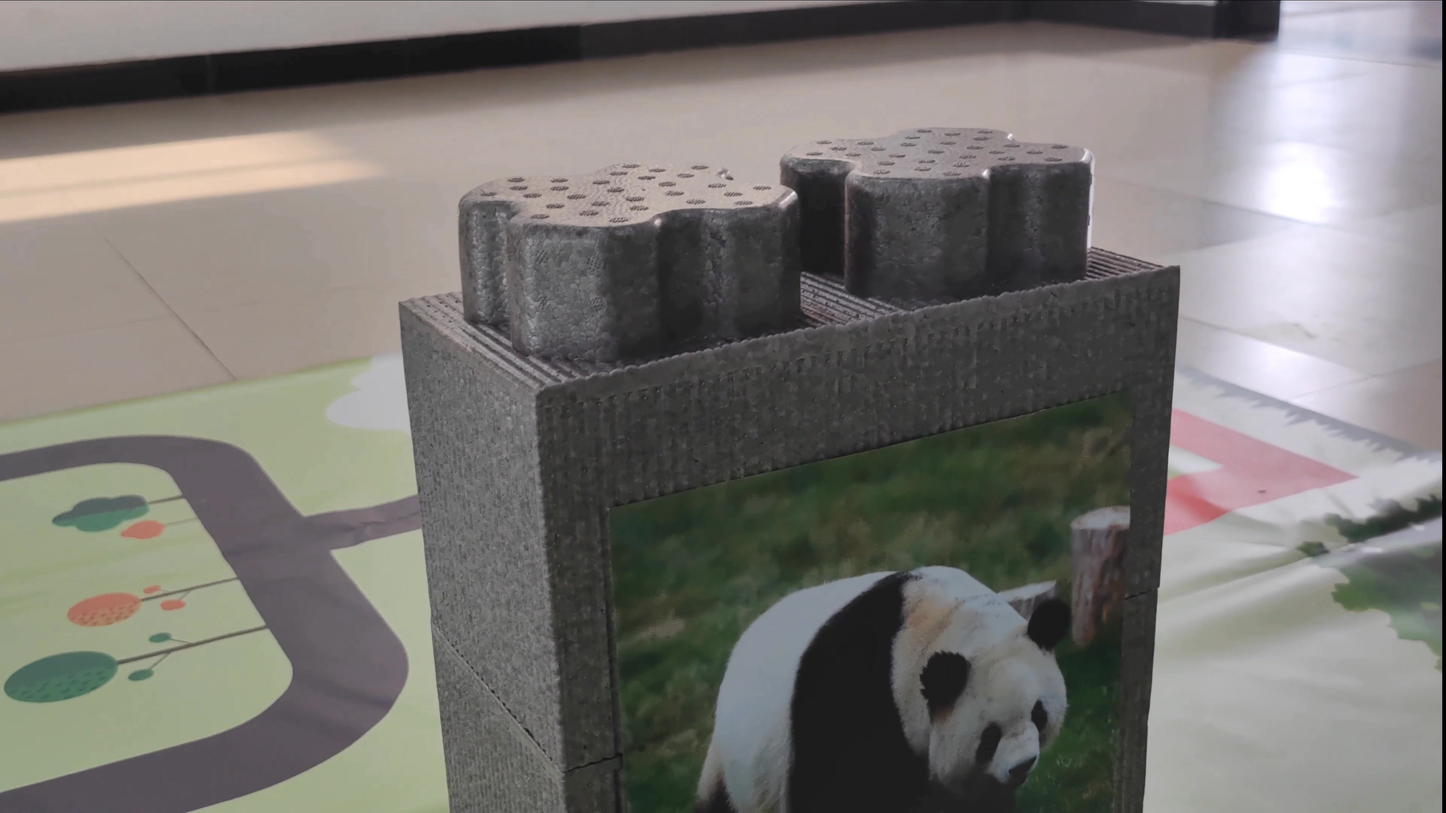panda: (673, 470, 1083, 813)
